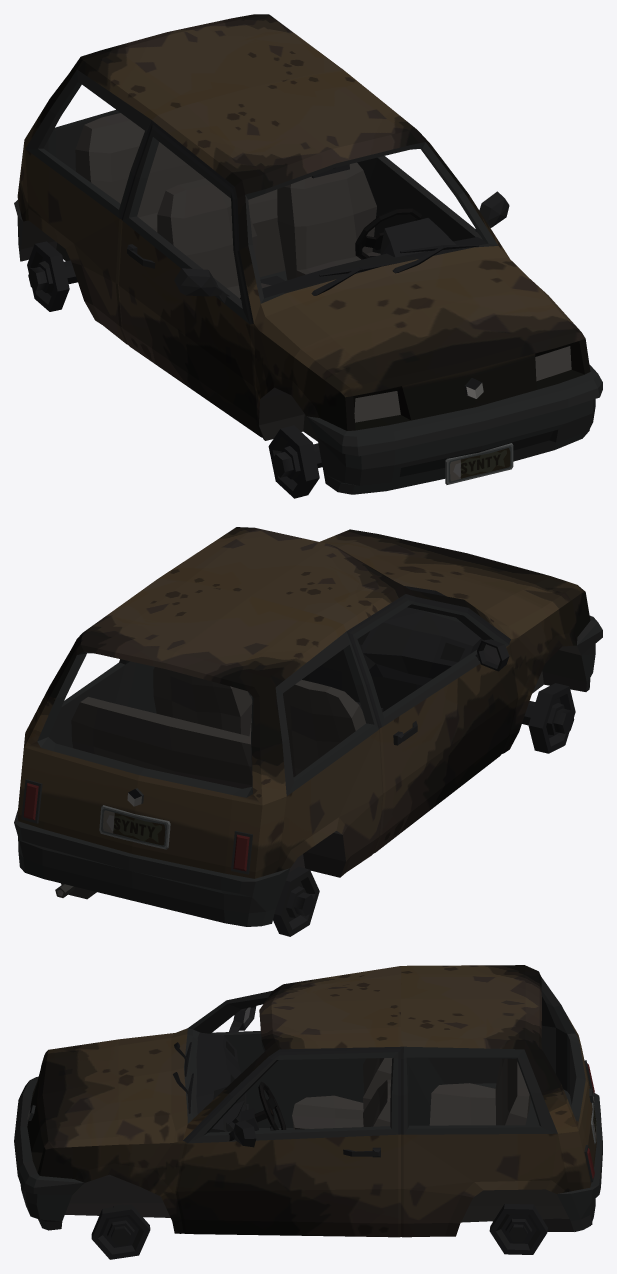
Rendered from SM_Veh_Car_Small_Destroyed_01.fbx.
3 views of the same model, one above another, from view 1: azimuth 30°, elevation 25°; view 2: azimuth 150°, elevation 25°; view 3: azimuth 270°, elevation 25° (orthographic). The views are drawn at different scales.
Parts seen in each view (by area): view 1: SM_Veh_Car_Small_Destroyed_01; view 2: SM_Veh_Car_Small_Destroyed_01; view 3: SM_Veh_Car_Small_Destroyed_01.
Part boxes in pixels (<box>): SM_Veh_Car_Small_Destroyed_01: <box>14,14,602,498</box>; SM_Veh_Car_Small_Destroyed_01: <box>14,527,602,936</box>; SM_Veh_Car_Small_Destroyed_01: <box>14,965,602,1259</box>.
Size of the model in its own units: 205 by 148 by 385.
